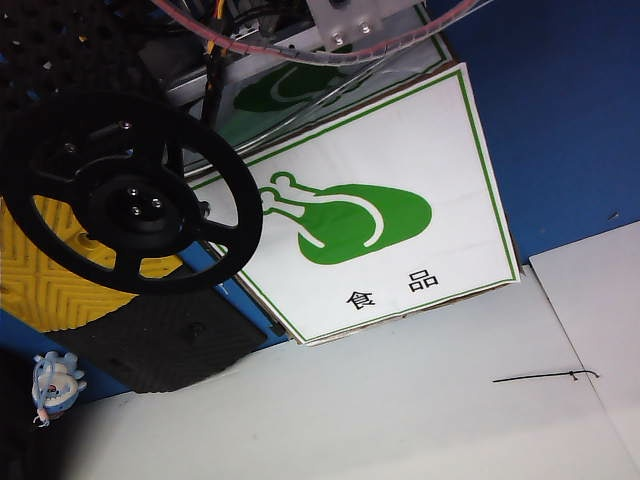Cube_food: (254, 162, 452, 316)
